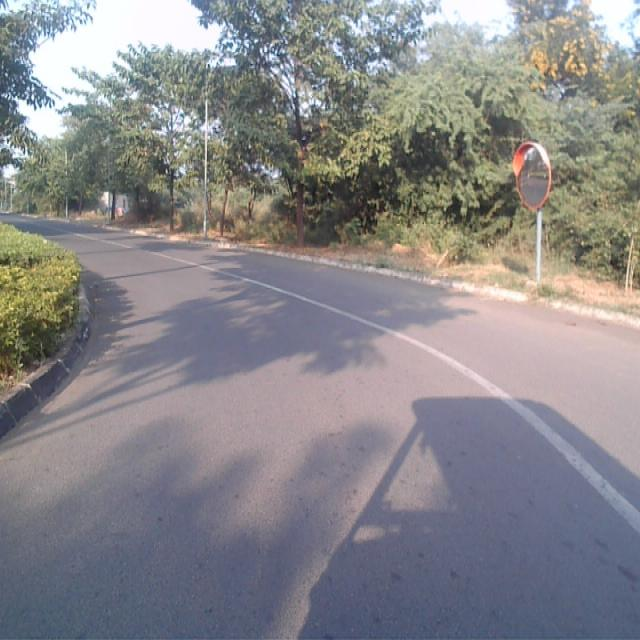lane: (0, 224, 640, 640)
